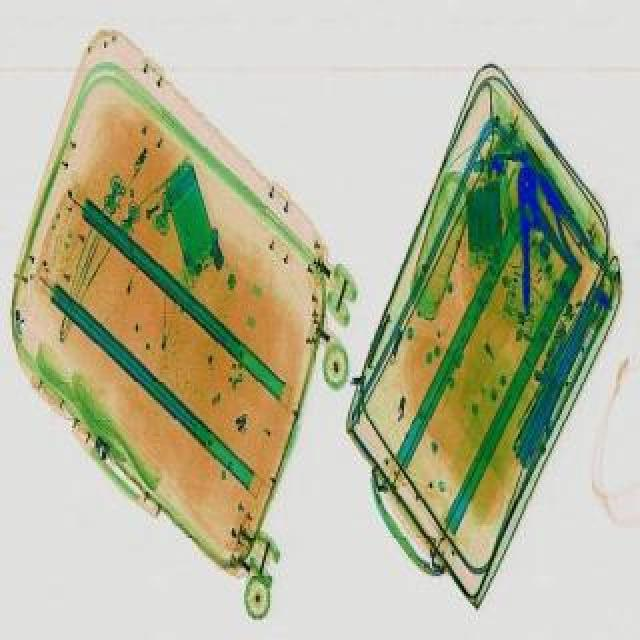wrench: (494, 160, 588, 312)
